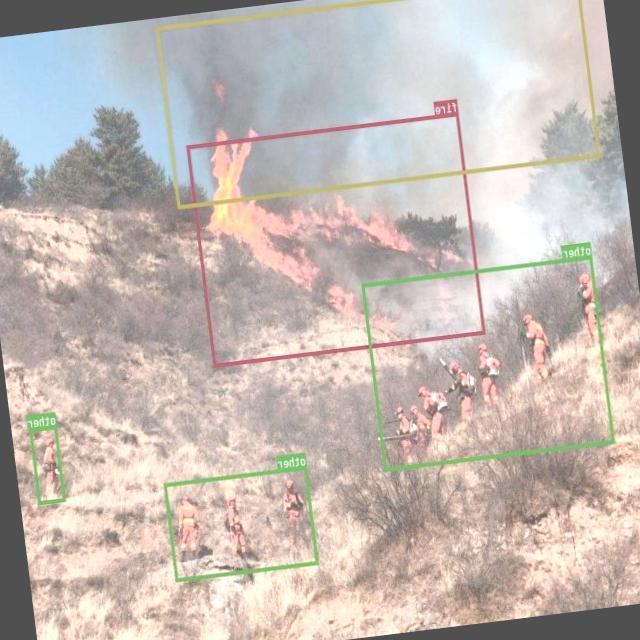fire: (187, 110, 486, 367)
smoke: (156, 0, 601, 207)
